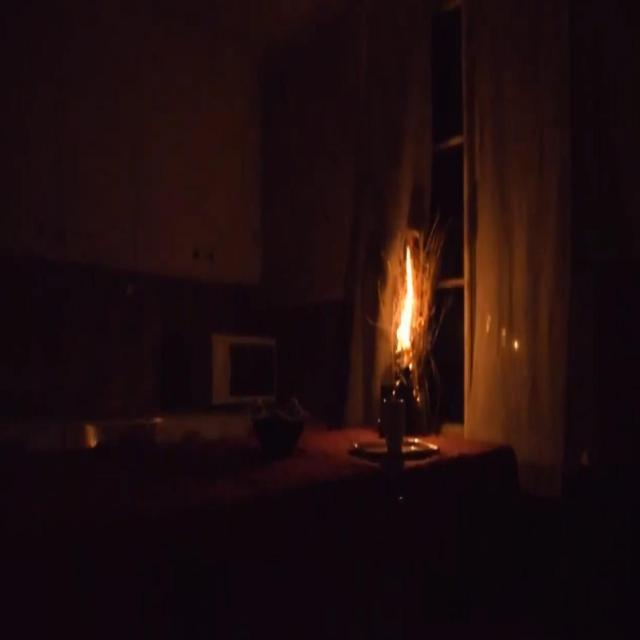smoke: (392, 234, 422, 364)
